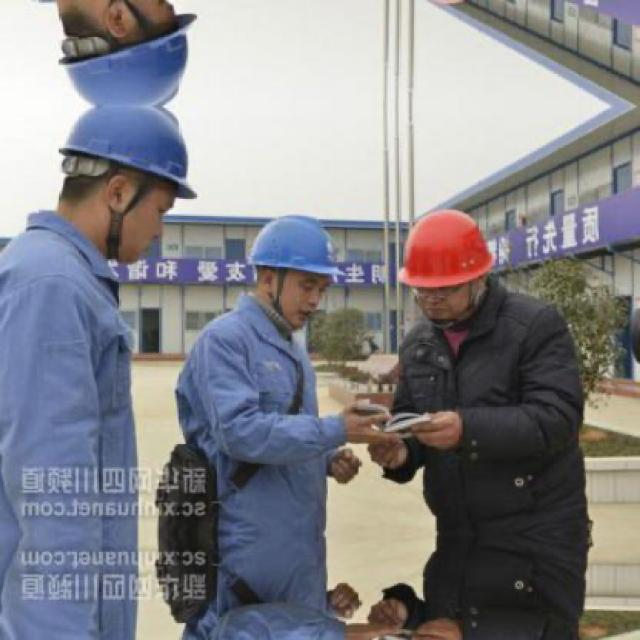helmet: (40, 106, 206, 267), (39, 0, 206, 108), (391, 197, 503, 330), (237, 205, 351, 329)
